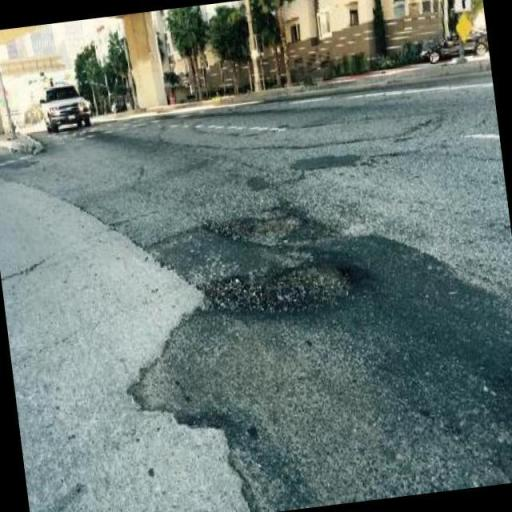pothole: (180, 147, 512, 420), (164, 96, 396, 315)
